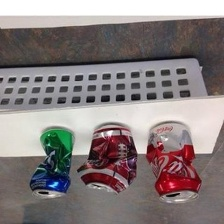can: (75, 121, 141, 198), (144, 120, 202, 205), (27, 128, 77, 201)
